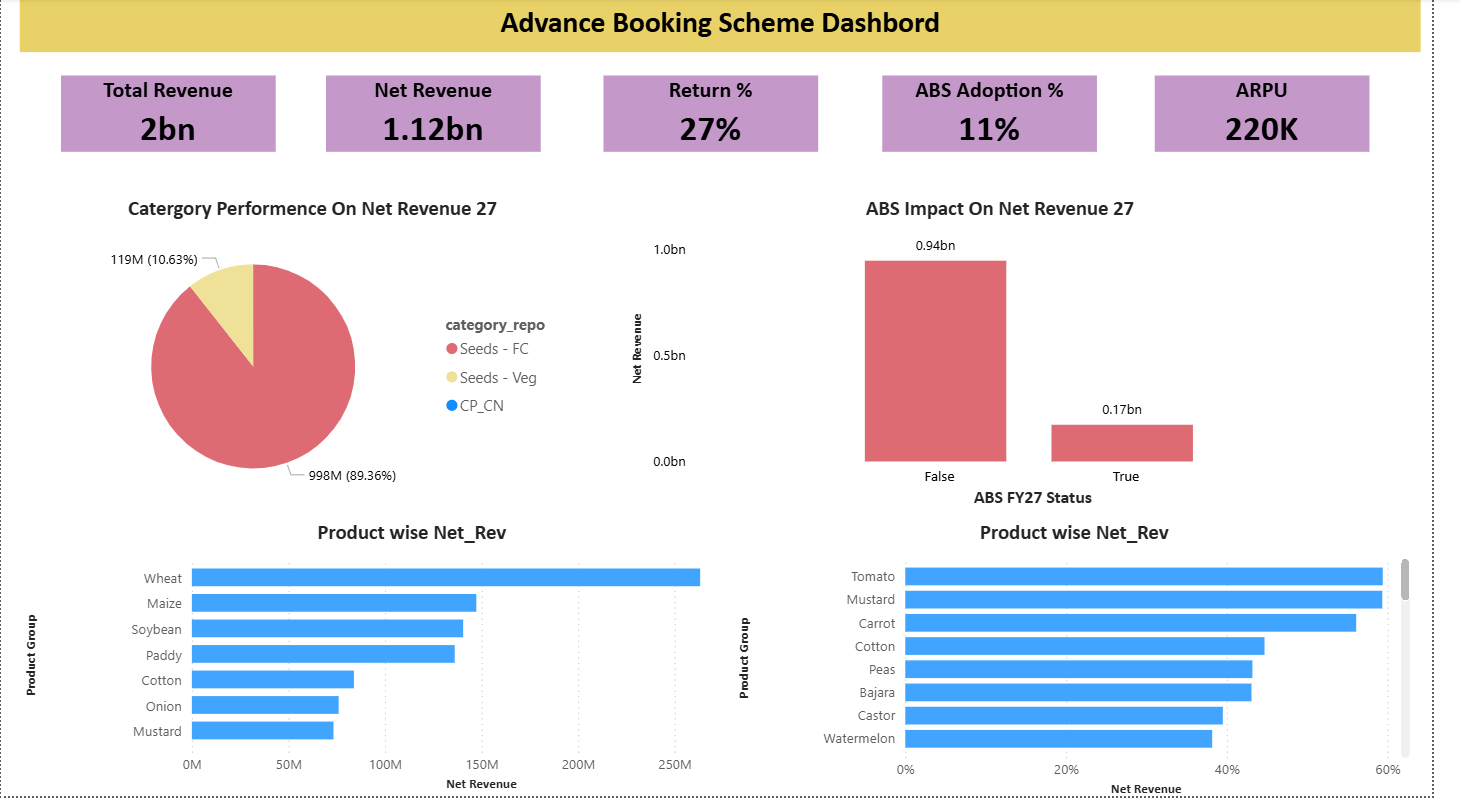

The page's visual inventory and layout, read from the dashboard file:
{"tool":"powerbi","page":{"name":"Product Revenue & Return","canvas":[1290,720],"ordinal":0},"visuals":[{"type":"card","title":"Net Revenue","fields":{"Values":["ABS_RAW.Total Net_Revenue"]},"box":[293.5,69.7,193.2,68.5],"z":0},{"type":"textbox","box":[17.1,0,1263.2,48.9],"z":1000},{"type":"card","title":"Total Revenue","fields":{"Values":["ABS_RAW.Total revenue"]},"box":[53.8,69.7,193.2,68.5],"z":2000},{"type":"card","title":"Return %","fields":{"Values":["ABS_RAW.Return %"]},"box":[542.9,69.7,193.2,68.5],"z":3000},{"type":"card","title":"ABS Adoption %","fields":{"Values":["ABS_RAW.ABS Adoption FY27"]},"box":[794.8,69.7,193.2,68.5],"z":4000},{"type":"card","title":"ARPU","fields":{"Values":["ABS_RAW.Avg Net Rev per Partner"]},"box":[1040.6,69.7,193.2,68.5],"z":5000},{"type":"clusteredColumnChart","title":"ABS Impact On Net Revenue 27 ","fields":{"Category":["ABS_RAW.abs_flag_fy27"],"Y":["Sum(ABS_RAW.Net_Rev)"]},"box":[568.6,178.5,665.2,281.3],"z":6000},{"type":"pieChart","title":"Catergory Performence On Net Revenue 27 ","fields":{"Category":["ABS_RAW.category_repo"],"Y":["Sum(ABS_RAW.Net_Rev)"]},"box":[53.8,178.5,453.7,281.3],"z":7000},{"type":"clusteredBarChart","title":"Product wise Net_Rev","fields":{"Category":["ABS_RAW.Product_group"],"Y":["Sum(ABS_RAW.Net_Rev)"]},"box":[17.1,469.6,706.8,250.7],"z":8000},{"type":"clusteredBarChart","title":"Product wise Net_Rev","fields":{"Category":["ABS_RAW.Product_group"],"Y":["ABS_RAW.Return %"]},"box":[665.2,469.6,605.3,250.7],"z":9000}]}

Visuals, with their boxes in screenshot pixels (x1, y1, x2, y2), scaled from the page's 1290x720 canvas onto the 1460x800 screenshot:
"Net Revenue" card: (left=332, top=77, right=551, bottom=154)
textbox: (left=19, top=0, right=1449, bottom=54)
"Total Revenue" card: (left=61, top=77, right=280, bottom=154)
"Return %" card: (left=614, top=77, right=833, bottom=154)
"ABS Adoption %" card: (left=900, top=77, right=1118, bottom=154)
"ARPU" card: (left=1178, top=77, right=1396, bottom=154)
"ABS Impact On Net Revenue 27 " clusteredColumnChart: (left=644, top=198, right=1396, bottom=511)
"Catergory Performence On Net Revenue 27 " pieChart: (left=61, top=198, right=574, bottom=511)
"Product wise Net_Rev" clusteredBarChart: (left=19, top=522, right=819, bottom=799)
"Product wise Net_Rev" clusteredBarChart: (left=753, top=522, right=1438, bottom=799)
